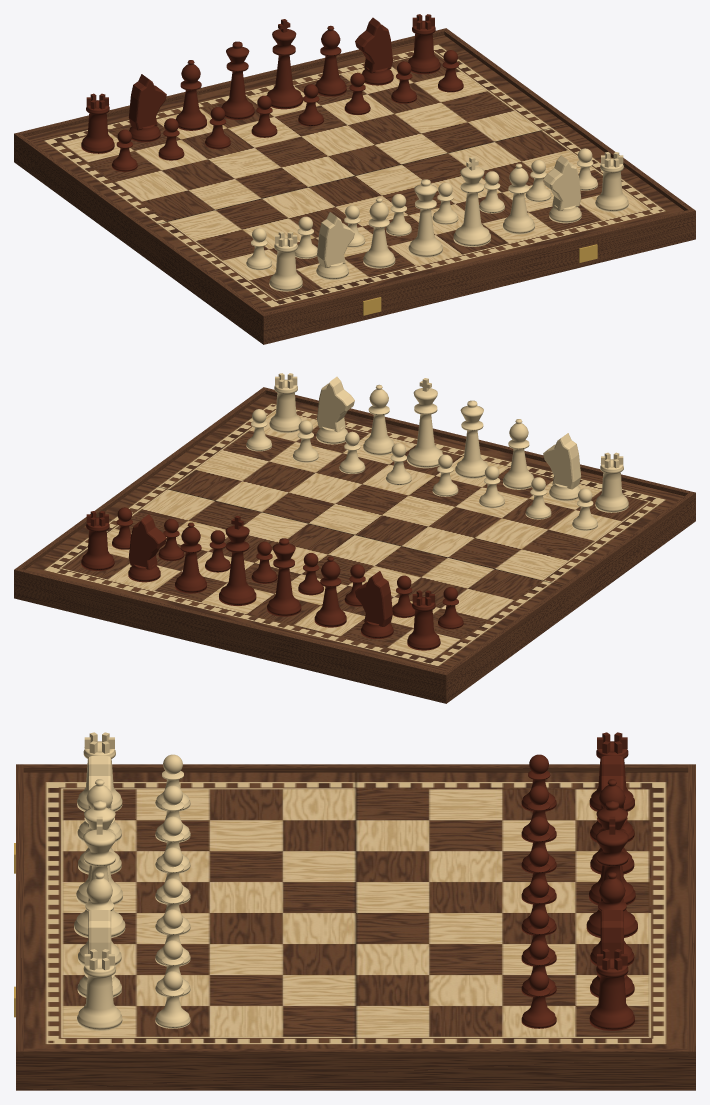
The model's file is philidor-3d-noyer-pliable-39-v2.glb.
3 renders of one model, top to bottom at view 1: azimuth 30°, elevation 25°; view 2: azimuth 150°, elevation 25°; view 3: azimuth 270°, elevation 25°, orthographic. The views are drawn at different scales.
Visible parts, largest first — view 1: noyer-pliable-39; view 2: noyer-pliable-39; view 3: noyer-pliable-39.
Part boxes in pixels (<box>): noyer-pliable-39: <box>14,14,695,344</box>; noyer-pliable-39: <box>14,373,695,703</box>; noyer-pliable-39: <box>14,732,695,1090</box>.
Size of what is drawn, in the model's own units: 0.39 by 0.0914 by 0.3912.
5 materials, 2 textured.
